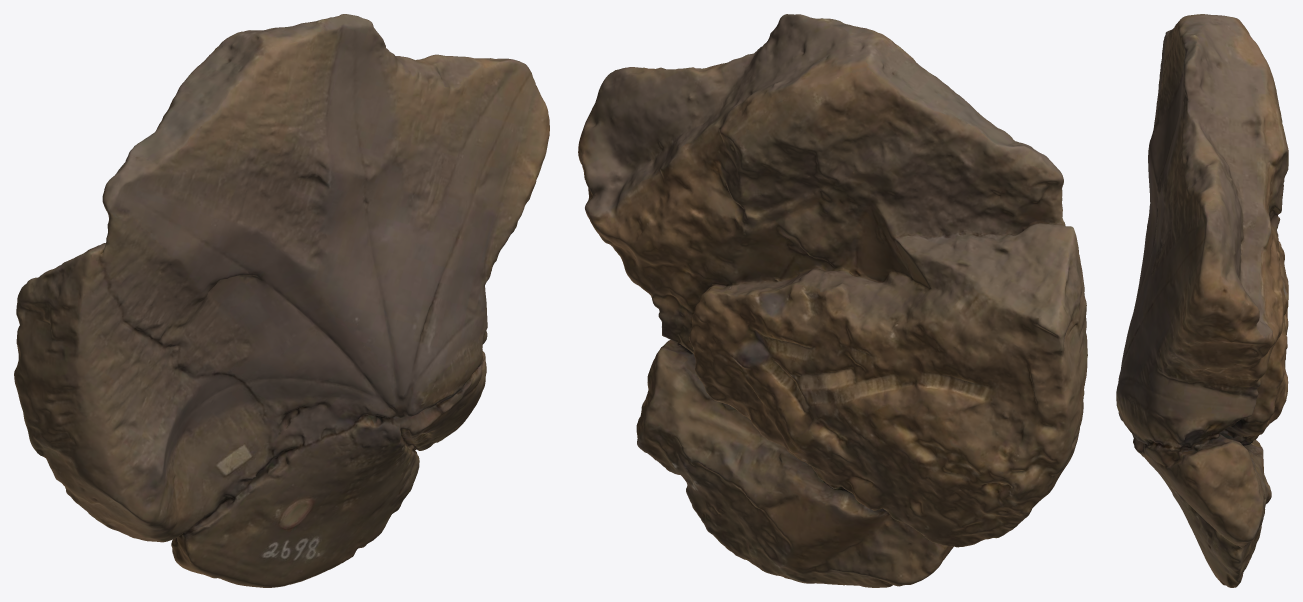
3 renders of one model, left to right at view 1: azimuth 30°, elevation 25°; view 2: azimuth 150°, elevation 25°; view 3: azimuth 270°, elevation 25°, orthographic. The views are drawn at different scales.
Parts seen in each view (by area): view 1: Sterculia_snowii_Lesquereux-unwrapped-webmulti; view 2: Sterculia_snowii_Lesquereux-unwrapped-webmulti; view 3: Sterculia_snowii_Lesquereux-unwrapped-webmulti.
Part boxes in pixels (<box>): Sterculia_snowii_Lesquereux-unwrapped-webmulti: <box>14,14,549,587</box>; Sterculia_snowii_Lesquereux-unwrapped-webmulti: <box>578,14,1087,587</box>; Sterculia_snowii_Lesquereux-unwrapped-webmulti: <box>1116,14,1288,587</box>.
Size of the model in its own units: 7914 by 8364 by 2443.
1 material, 1 textured.
